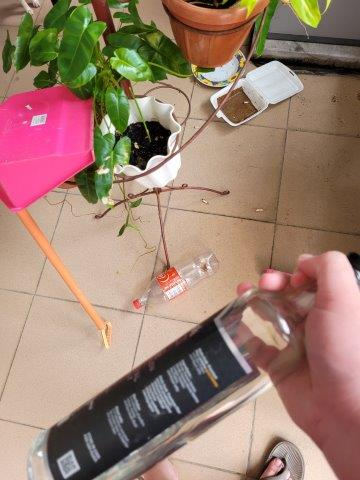botolkaca: (27, 253, 360, 480)
botolplastik: (130, 254, 218, 308)
